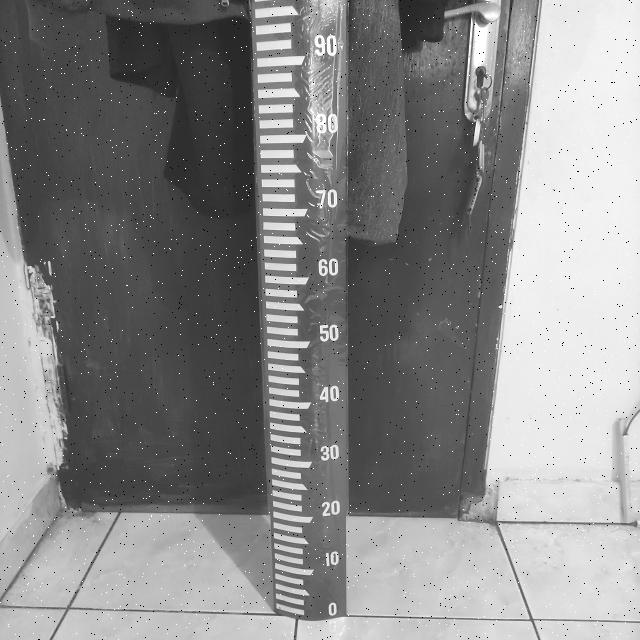10: (323, 550, 341, 566)
20: (320, 499, 340, 519)
30: (319, 444, 340, 464)
40: (319, 383, 340, 406)
50: (318, 322, 339, 346)
60: (316, 255, 339, 281)
70: (314, 189, 338, 214)
80: (316, 114, 340, 136)
90: (314, 33, 338, 58)
staff: (252, 4, 348, 618)
